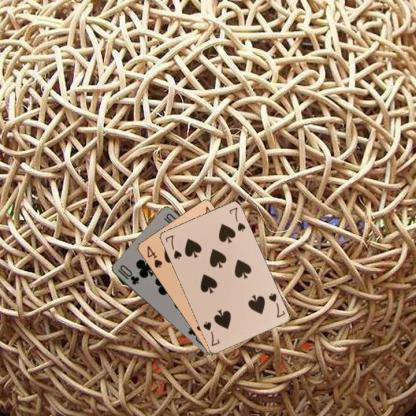10c: (115, 262, 140, 286)
4s: (144, 243, 163, 269)
7s: (162, 232, 183, 260), (265, 291, 286, 319)
